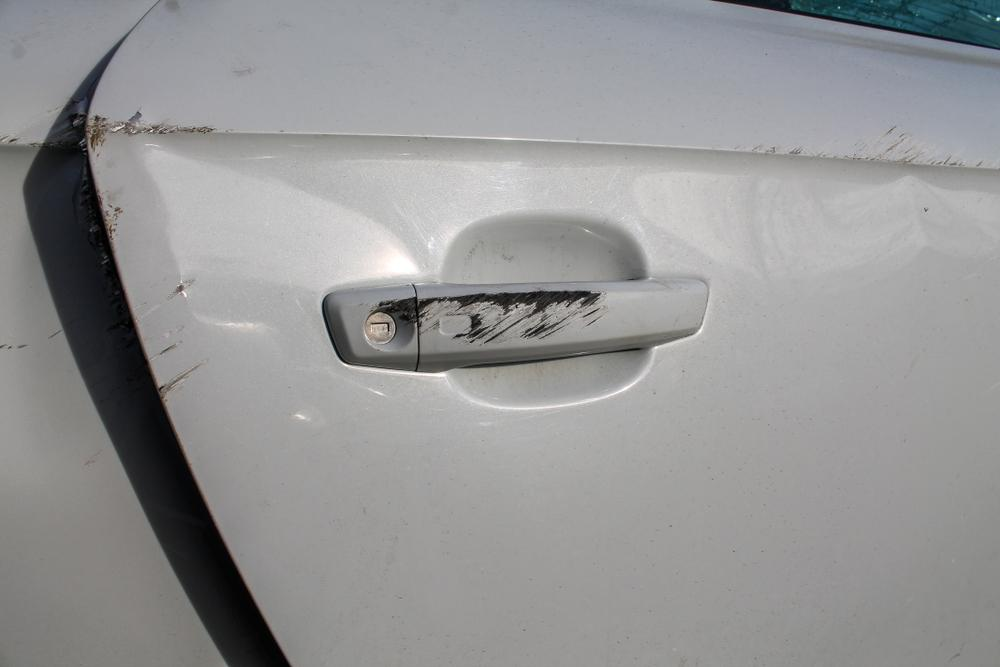scratch: (380, 284, 613, 342), (765, 119, 988, 171), (135, 269, 200, 401)
